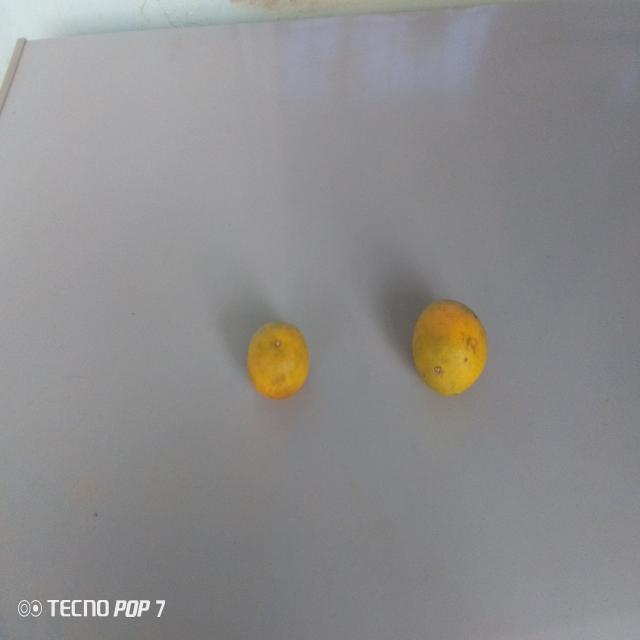Ripe orange: (396, 295, 497, 404), (239, 311, 312, 405)
